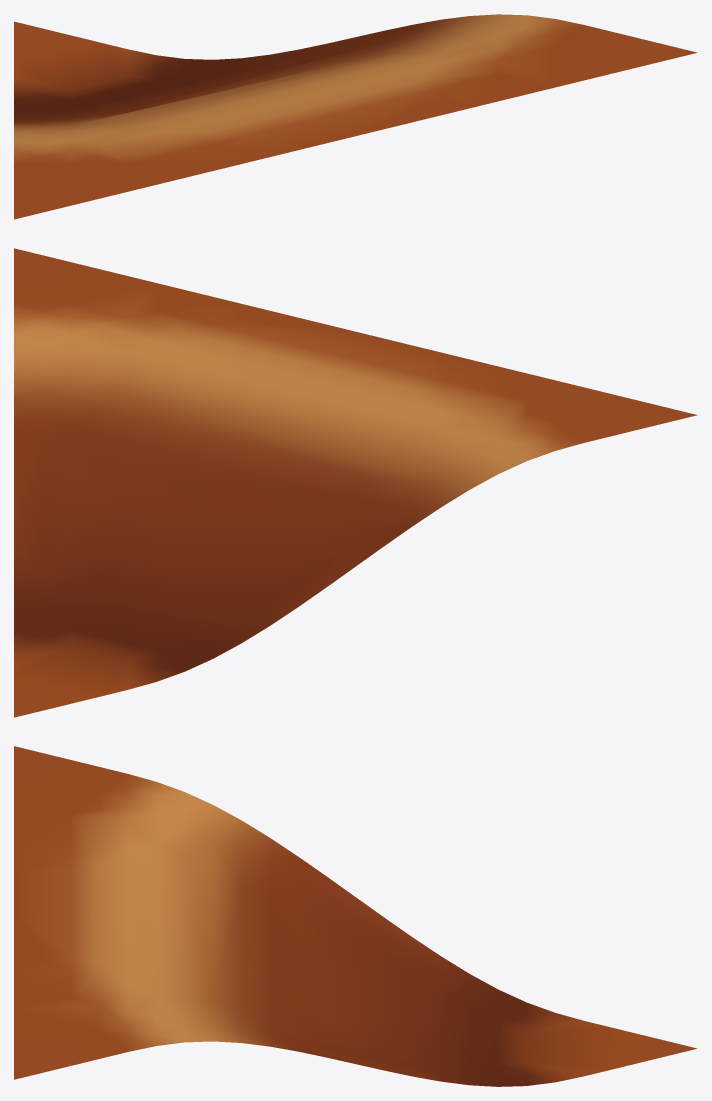
Rendered from MODULE_DESERT_RAMP_SIDE.fbx.
3 views of the same model, one above another, from view 1: azimuth 30°, elevation 25°; view 2: azimuth 150°, elevation 25°; view 3: azimuth 270°, elevation 25° (orthographic).
Visible parts, largest first — view 1: MODULE_DESERT_RAMP_SIDE__export; view 2: MODULE_DESERT_RAMP_SIDE__export; view 3: MODULE_DESERT_RAMP_SIDE__export.
Part boxes in pixels (<box>): MODULE_DESERT_RAMP_SIDE__export: <box>14,14,697,219</box>; MODULE_DESERT_RAMP_SIDE__export: <box>14,248,697,717</box>; MODULE_DESERT_RAMP_SIDE__export: <box>14,746,697,1086</box>.
Bounding box in the file's own units: 100 × 18.95 × 86.6.
